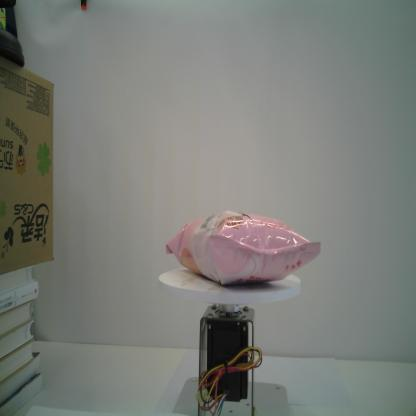Puffed Food: (165, 209, 323, 288)
